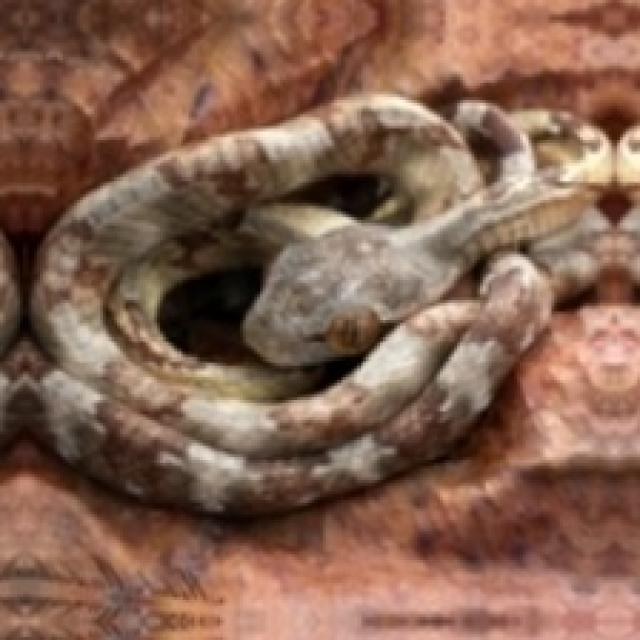dog-toothed cat snake: (0, 94, 609, 514)
